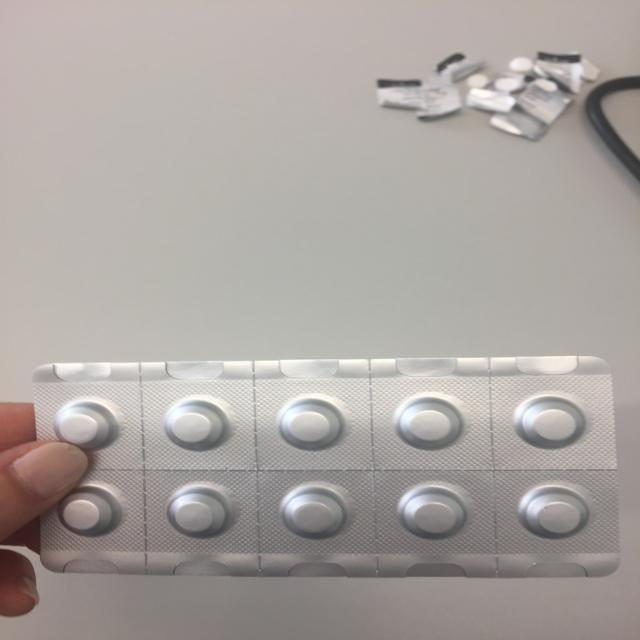Pill: (504, 392, 594, 451), (394, 482, 478, 540), (158, 482, 241, 540), (271, 395, 350, 454), (157, 397, 236, 456), (391, 392, 469, 451), (515, 484, 596, 540), (278, 484, 356, 542), (45, 484, 124, 540), (47, 398, 124, 451)
